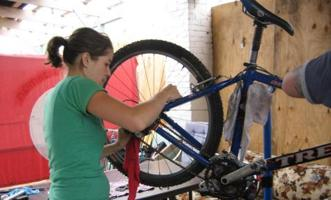person: (43, 26, 183, 200)
